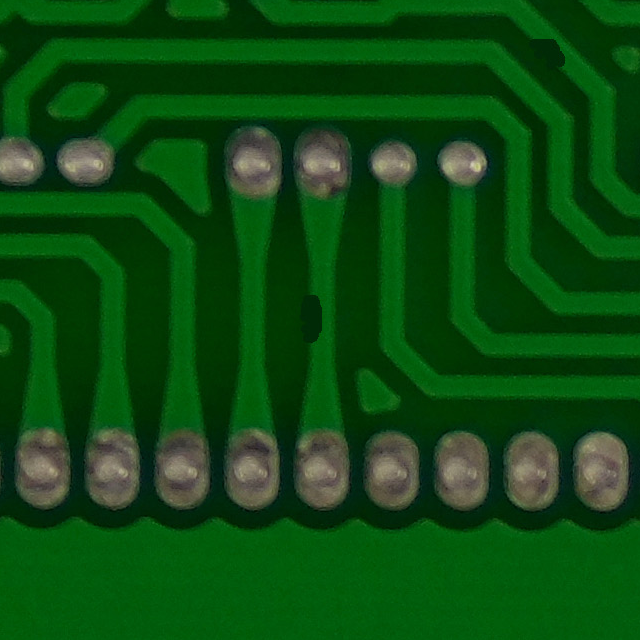mouse_bite: (294, 277, 346, 364), (525, 24, 585, 83)
